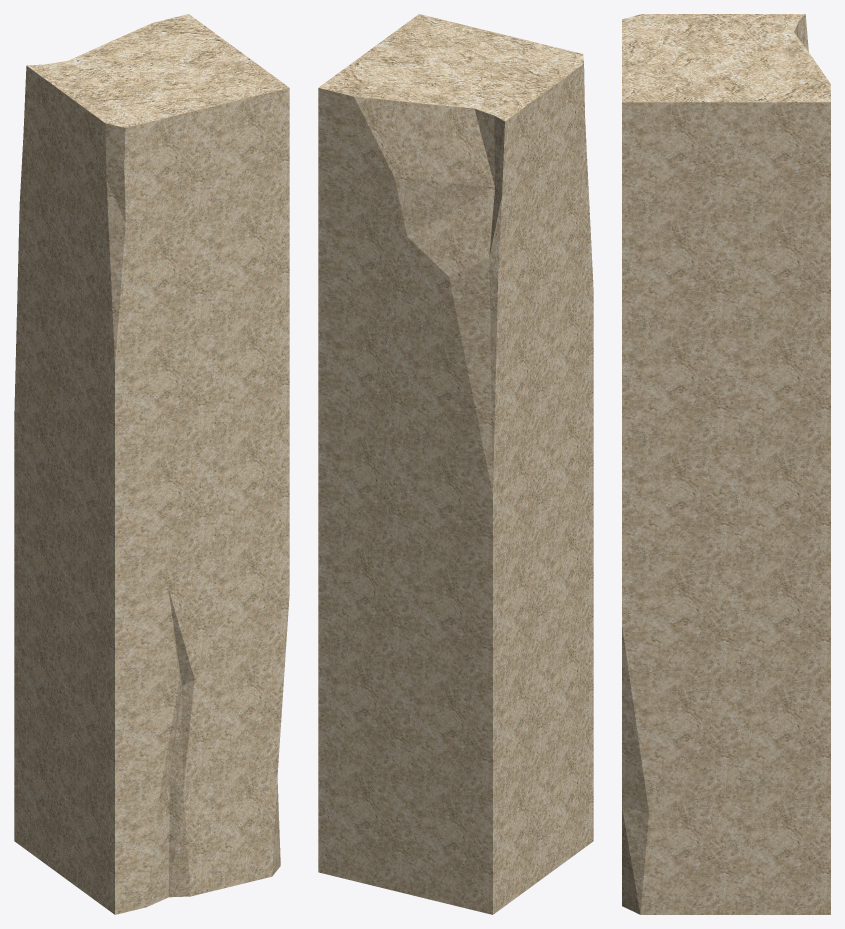
The model's file is thm_tato_imprv_pillar_damaged_s01_l0.fbx.
The picture shows the model from 3 angles, left to right: view 1: azimuth 30°, elevation 25°; view 2: azimuth 150°, elevation 25°; view 3: azimuth 270°, elevation 25°; orthographic projection. The views are drawn at different scales.
Visible parts, largest first — view 1: mesh_node; view 2: mesh_node; view 3: mesh_node.
Boxes of the visible parts, x1,y1,x2,y2 form: mesh_node: (14,14,289,914); mesh_node: (318,14,593,914); mesh_node: (622,14,830,914).
Size of the model in its own units: 1 by 4.29 by 1.
